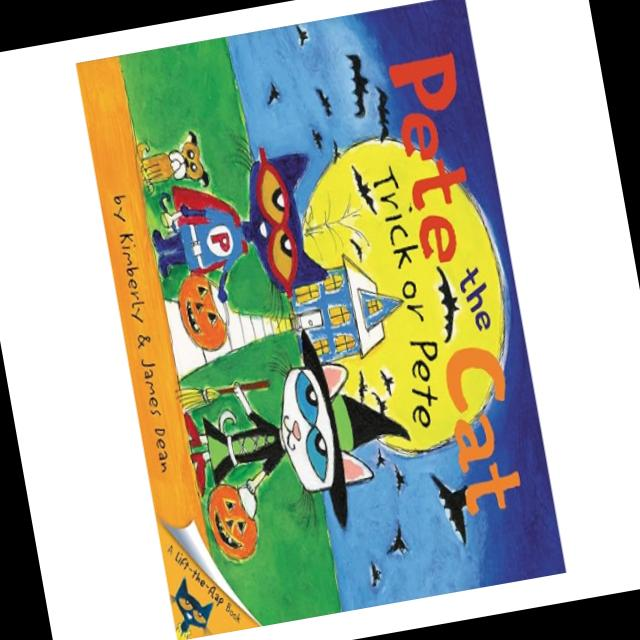titles-or-authors: (344, 42, 542, 530), (111, 223, 184, 487)
